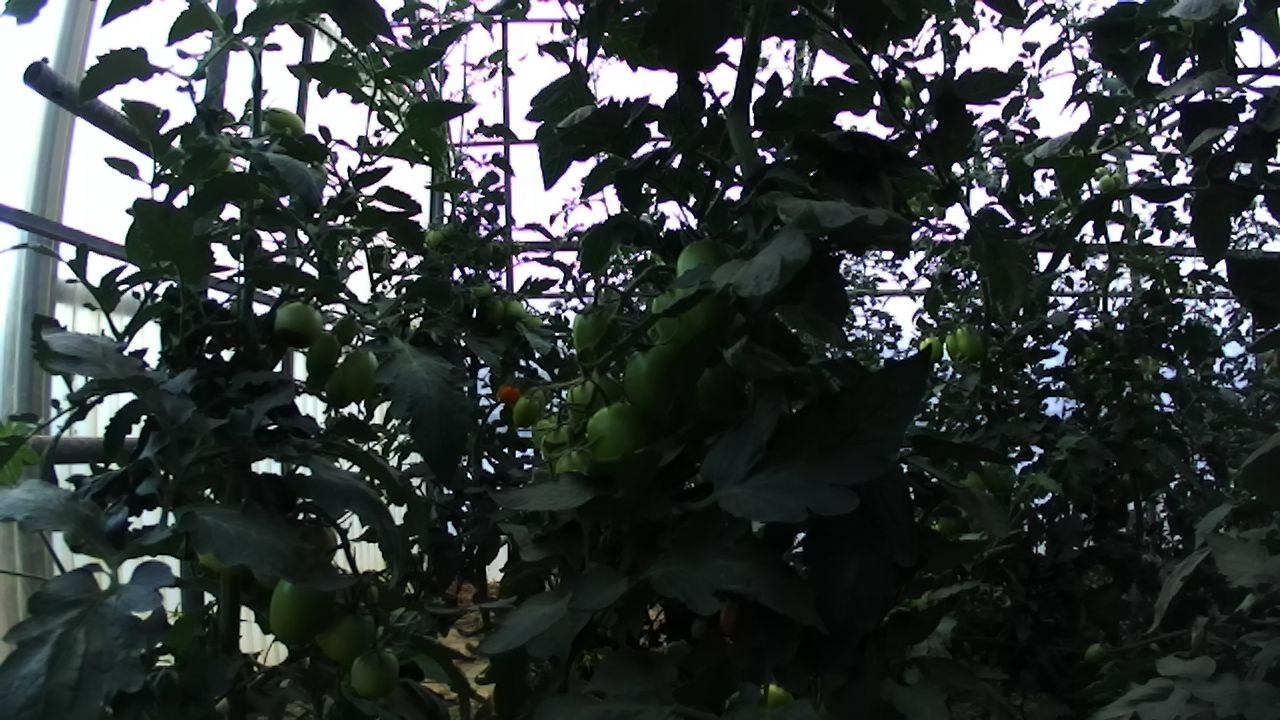tomato: (660, 229, 748, 346), (606, 335, 709, 428), (562, 294, 636, 384), (263, 561, 332, 654), (579, 393, 657, 472), (311, 590, 383, 669), (343, 634, 411, 708), (249, 90, 324, 157), (259, 294, 337, 355), (331, 338, 391, 410), (314, 354, 368, 417), (296, 326, 348, 380), (327, 307, 369, 353), (951, 320, 993, 365), (470, 288, 510, 330), (506, 392, 546, 431), (912, 330, 950, 367), (491, 375, 528, 410), (499, 293, 530, 327), (1094, 170, 1120, 196)
